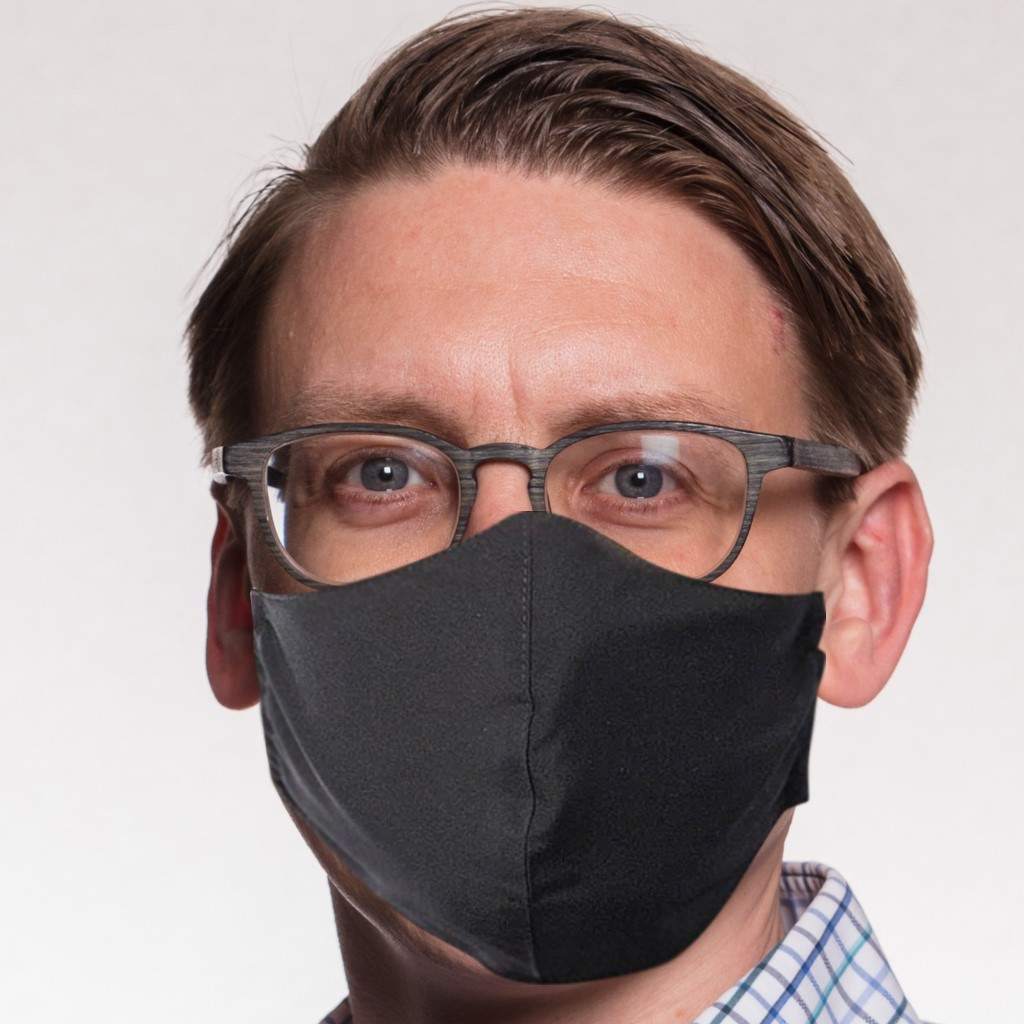con_mascara: (240, 186, 803, 954)
